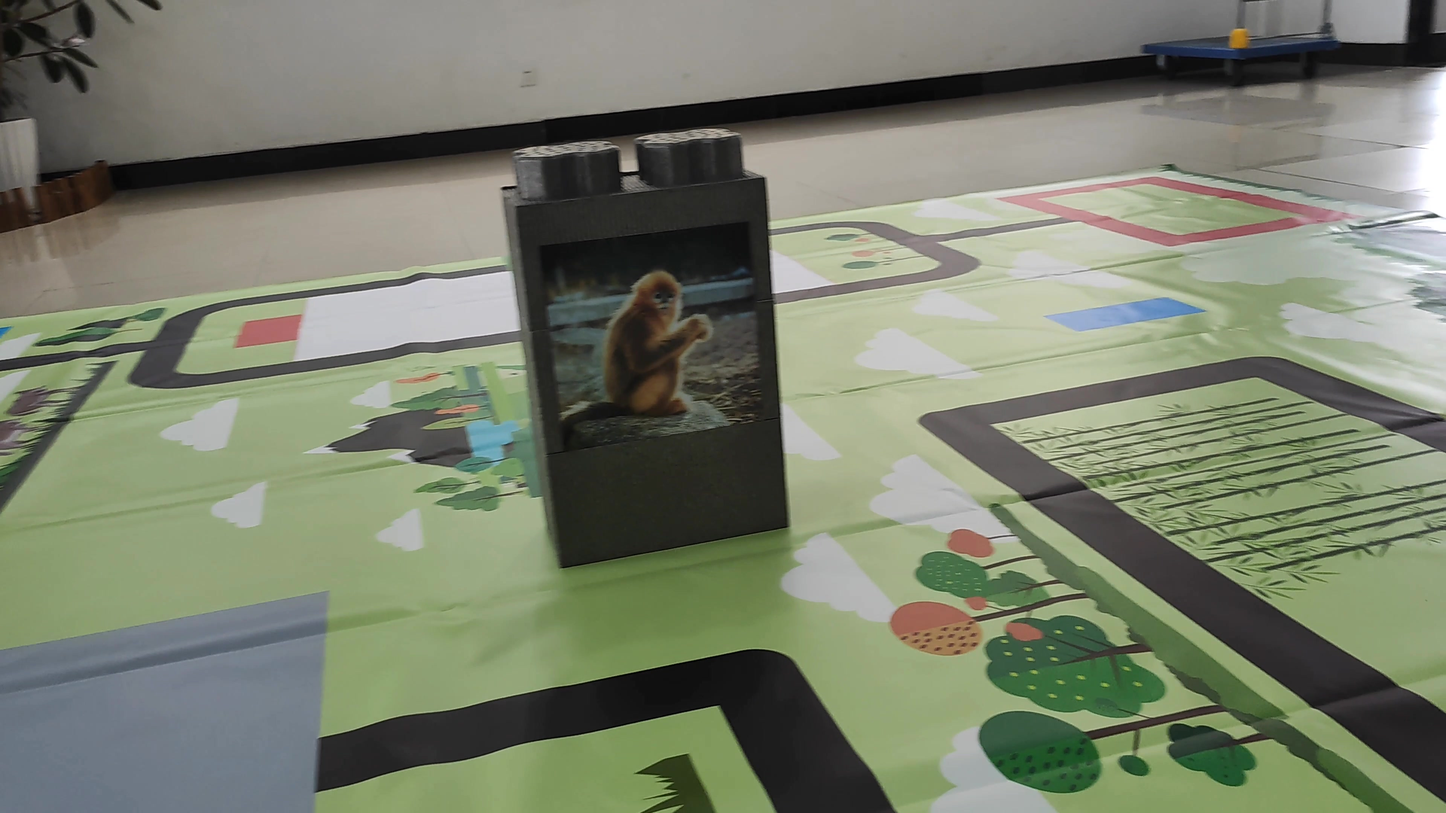monkey: (554, 266, 743, 455)
